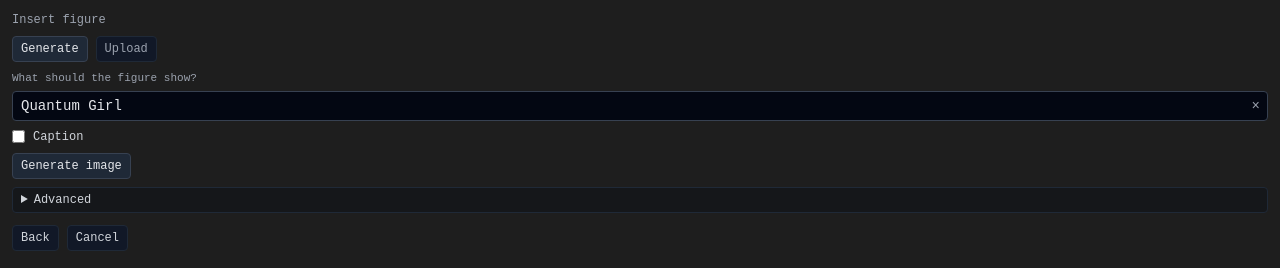
Test: InsertFigureWizard › hides the "What should the figure show?" input in Upload mode
Click the button "Upload" at (126,49), box left=96, top=36, right=157, bottom=62
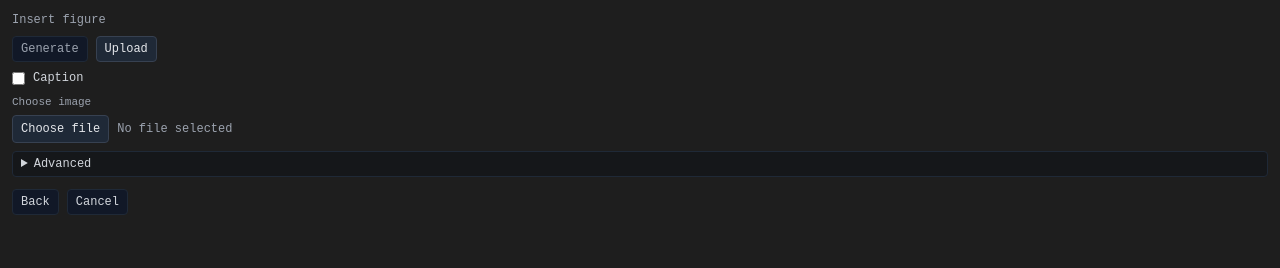
Now the text "What should the figure show?" is gone
